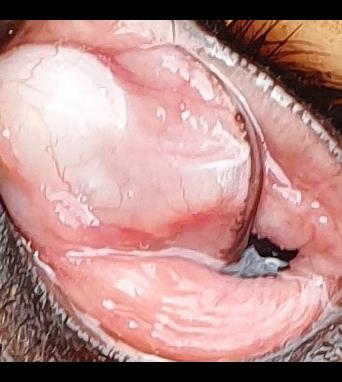eye_membrane: (0, 22, 342, 359), (0, 45, 250, 260)
